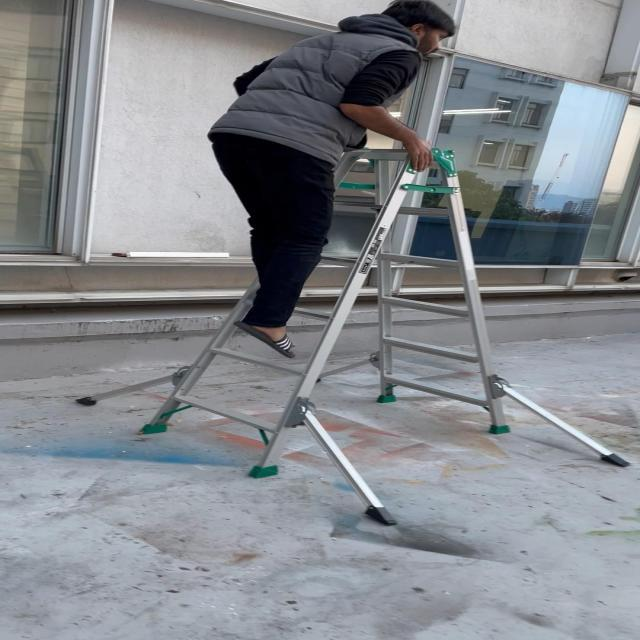boots: (72, 142, 636, 532)
vest: (199, 0, 467, 356)
